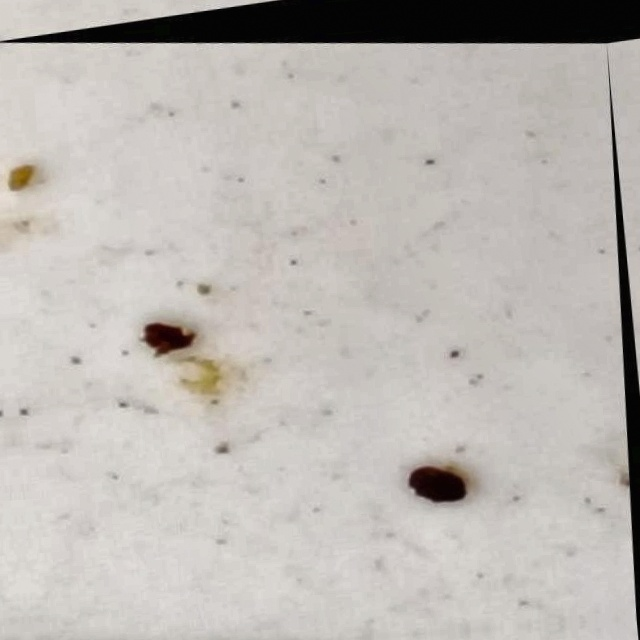varroa: (407, 453, 476, 504)
